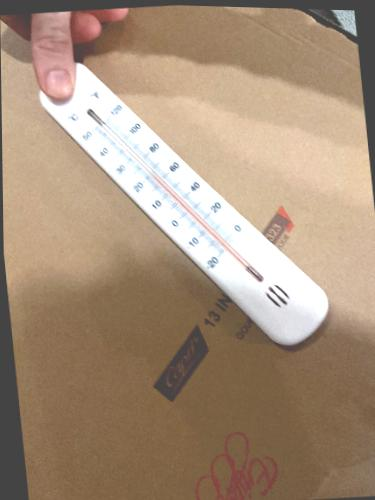thermo: (38, 48, 337, 353)
